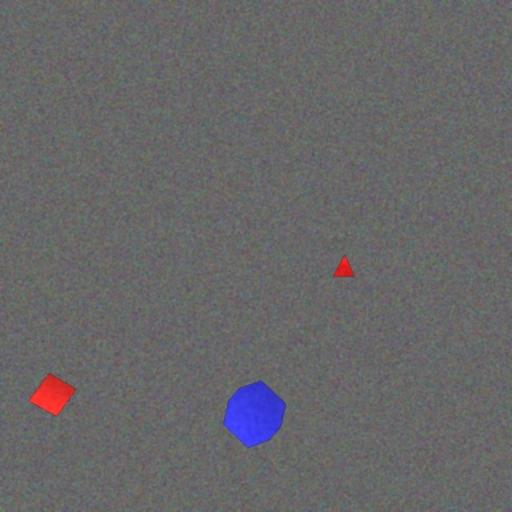RED_SQUARE: (28, 372, 77, 418)
